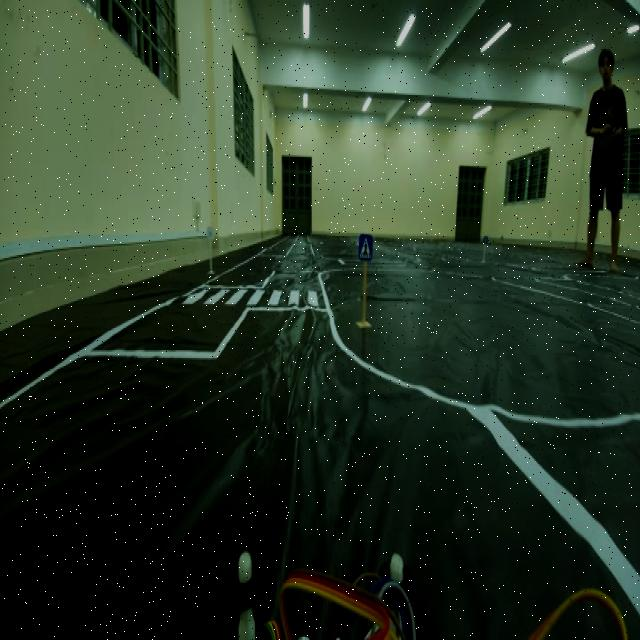crosswalk: (355, 218, 376, 272)
